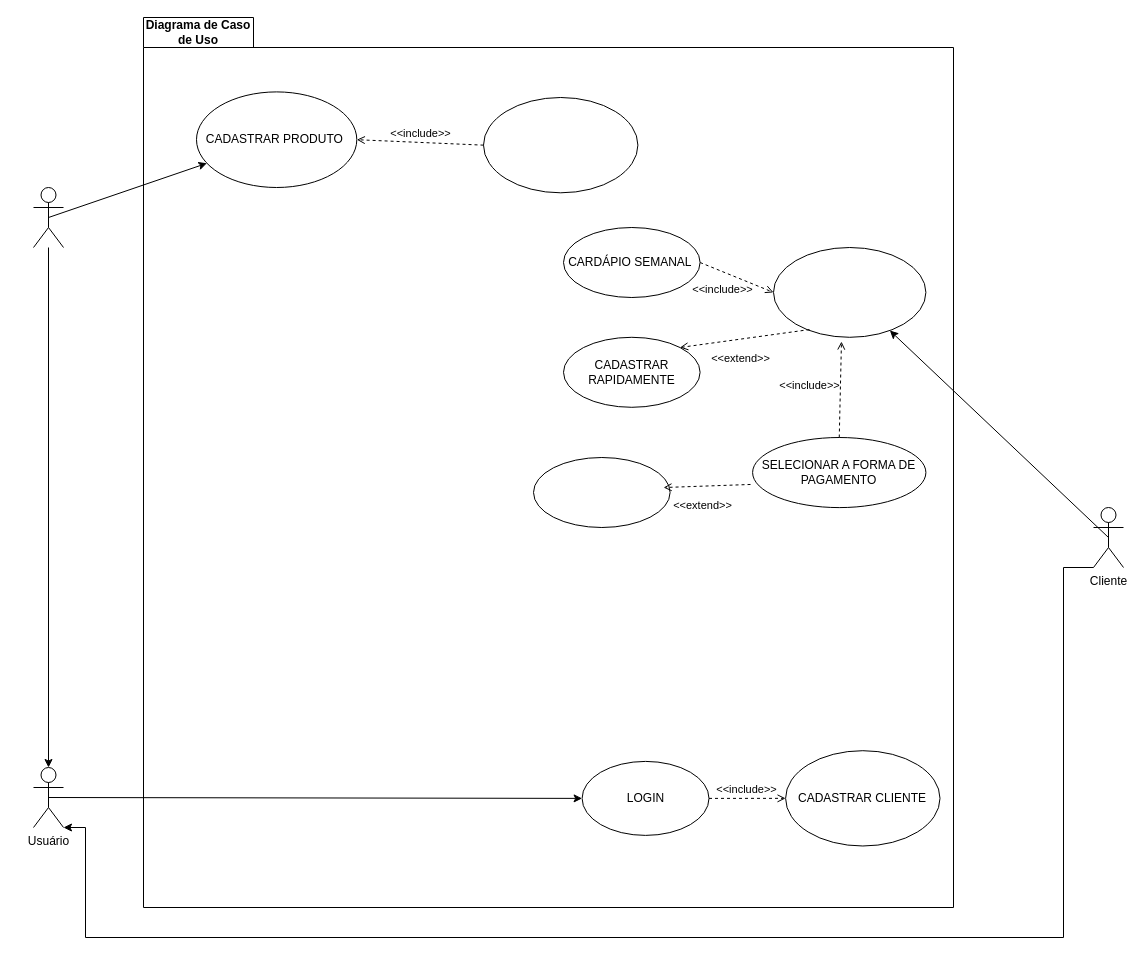
This 1144x963 diagram has some shape labels left out. The centre of each missing label's shape, as x and y in pixels:
CADASTRAR TIPOS DE PÃES: (x=560, y=144)
FINALIZAR O PAGAMENTO: (x=601, y=492)
Proprietário: (x=48, y=217)
REALIZAR PEDIDO: (x=849, y=291)
